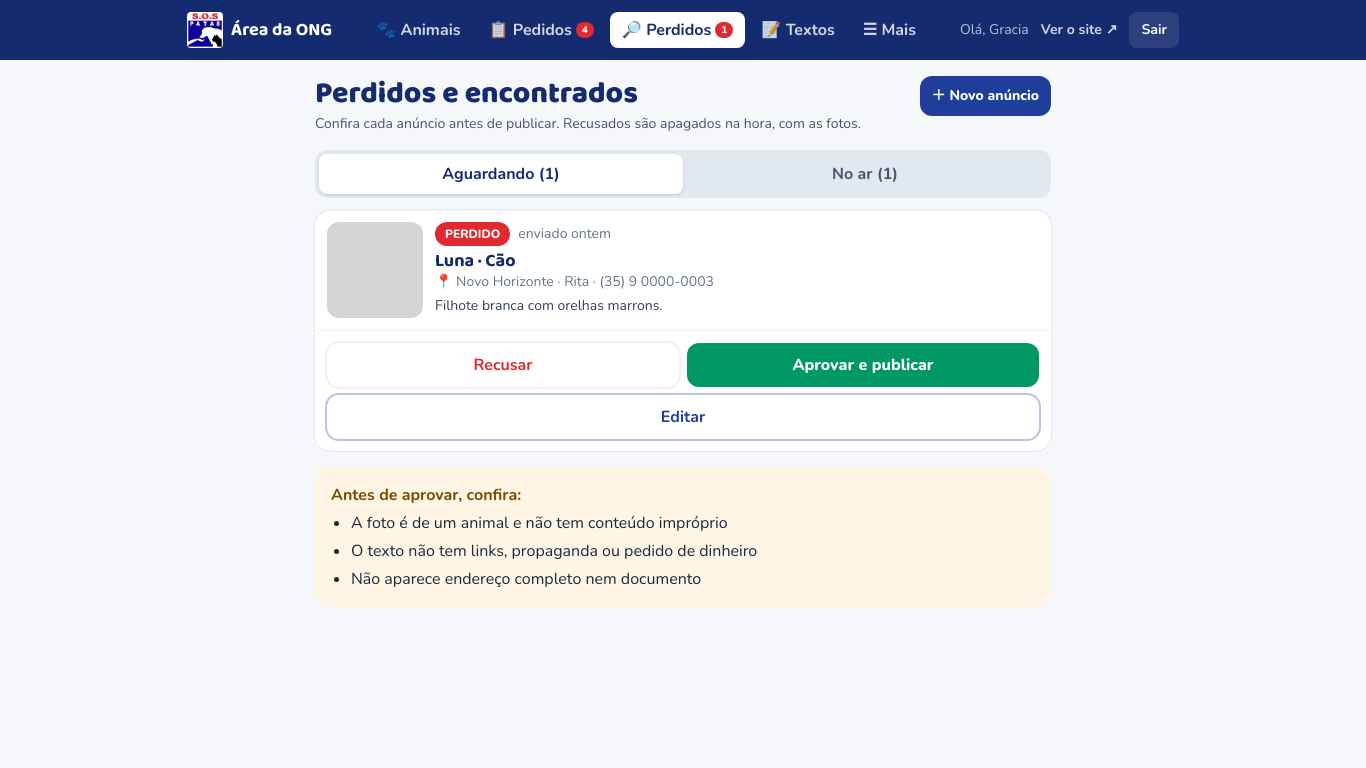
T14 · Moderar perdidos e encontrados › recusar pede confirmação e apaga (RN26)
Check: the heading "Luna · Cão" is shown, box [435,246,516,274]
Step 1. Click the button "Recusar" → coordinates (503, 364), box [327,342,679,386]
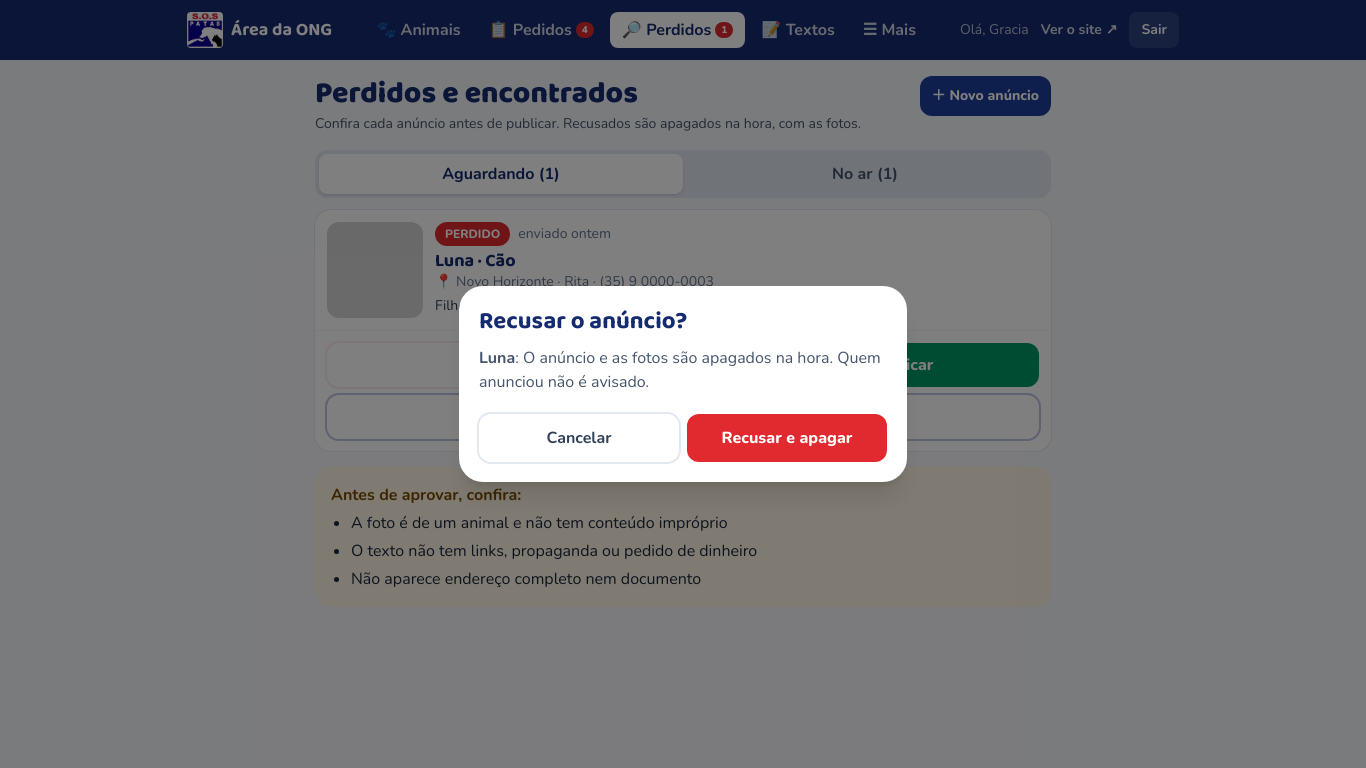
Check: the text "Quem anunciou não é avisado" is shown, box [479,347,881,393]
Step 2. Click the button "Recusar e apagar" → coordinates (787, 438), box [687,414,887,462]
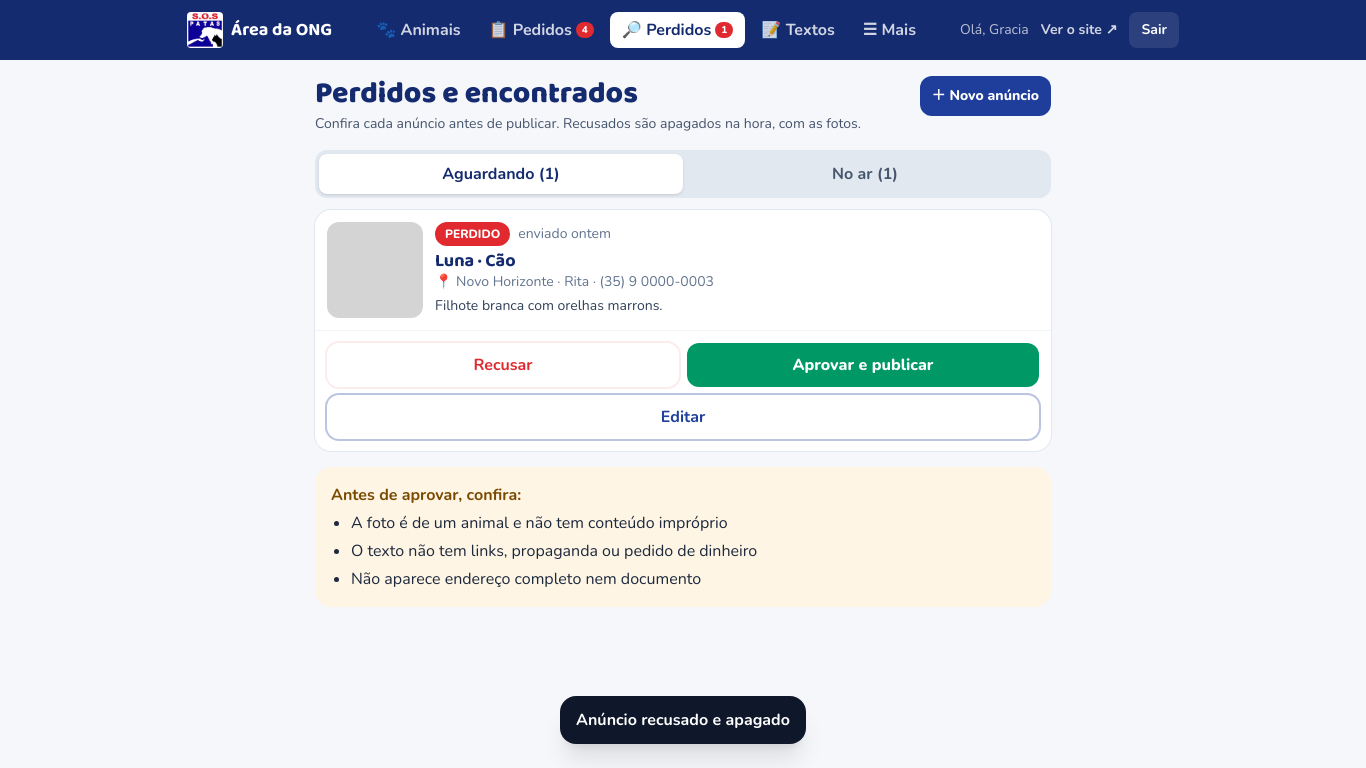
Check: the text "Anúncio recusado e apagado" is shown, box [560,696,806,744]
